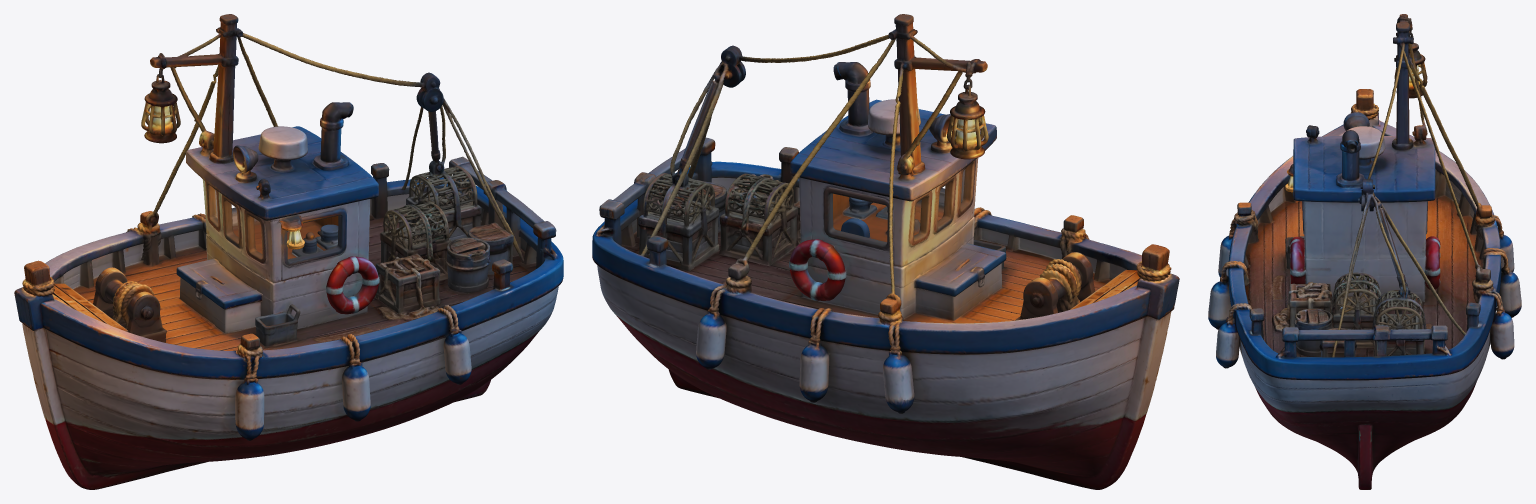
File: tekne.glb
The picture shows the model from 3 angles, left to right: view 1: azimuth 30°, elevation 25°; view 2: azimuth 150°, elevation 25°; view 3: azimuth 270°, elevation 25°; orthographic projection. The views are drawn at different scales.
Parts seen in each view (by area): view 1: tripo_node_1b68ce2a-8d7b-44b8-9992-ce86e04d3f8b; view 2: tripo_node_1b68ce2a-8d7b-44b8-9992-ce86e04d3f8b; view 3: tripo_node_1b68ce2a-8d7b-44b8-9992-ce86e04d3f8b.
Part boxes in pixels (left/top/right/bottom): tripo_node_1b68ce2a-8d7b-44b8-9992-ce86e04d3f8b: left=14, top=14, right=563, bottom=489; tripo_node_1b68ce2a-8d7b-44b8-9992-ce86e04d3f8b: left=592, top=14, right=1179, bottom=489; tripo_node_1b68ce2a-8d7b-44b8-9992-ce86e04d3f8b: left=1208, top=14, right=1521, bottom=489.
Size of the model in its own units: 0.9802 by 0.774 by 0.5995.
Materials: 1 (1 with a texture image).
